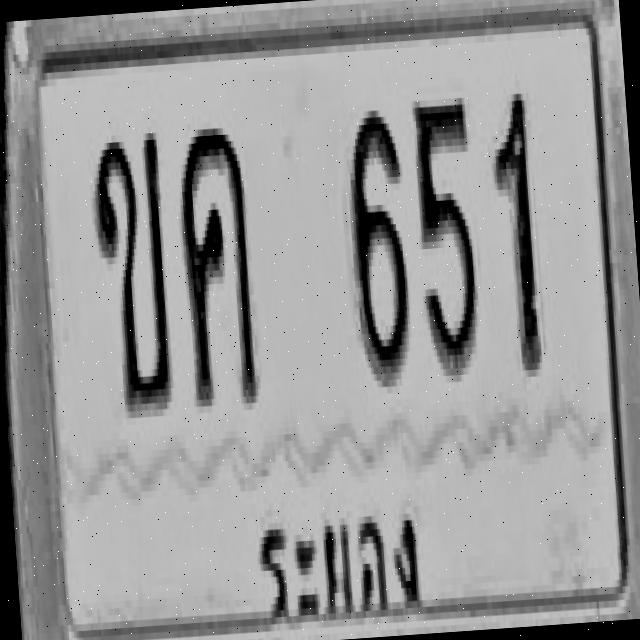1: (486, 83, 544, 374)
11KhorKhai: (86, 125, 176, 412)
13KhorKhwai: (174, 120, 260, 406)
5: (409, 90, 483, 377)
6: (342, 106, 416, 384)
Rayong: (244, 473, 432, 632)
